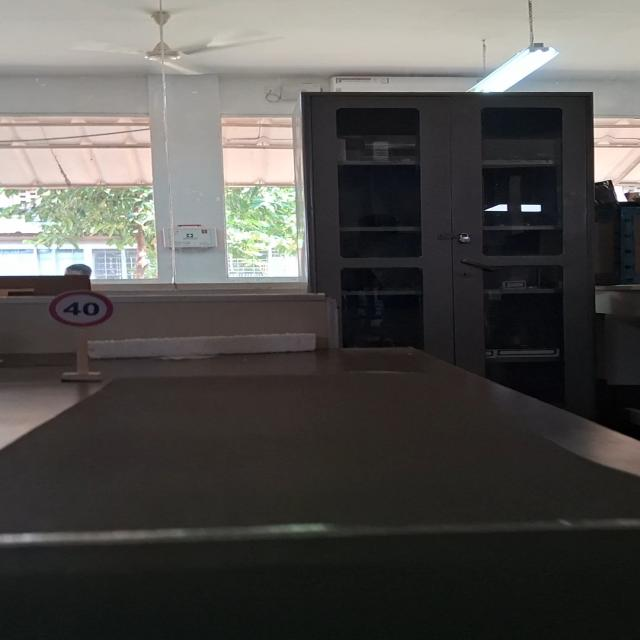Speed40: (45, 288, 116, 328)
